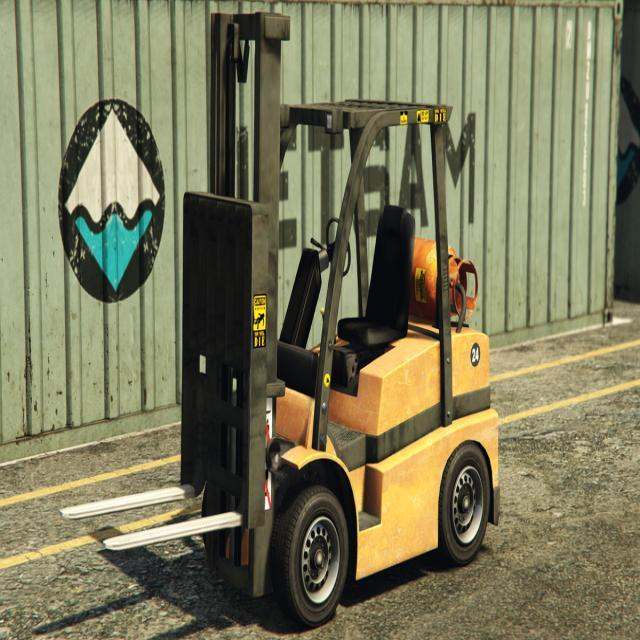forklift: (158, 11, 497, 619)
